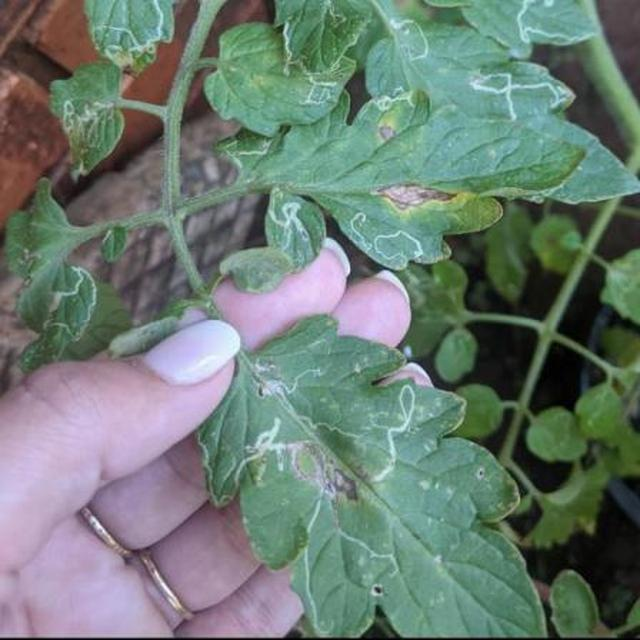Leaf Miner: (90, 120, 536, 640)
